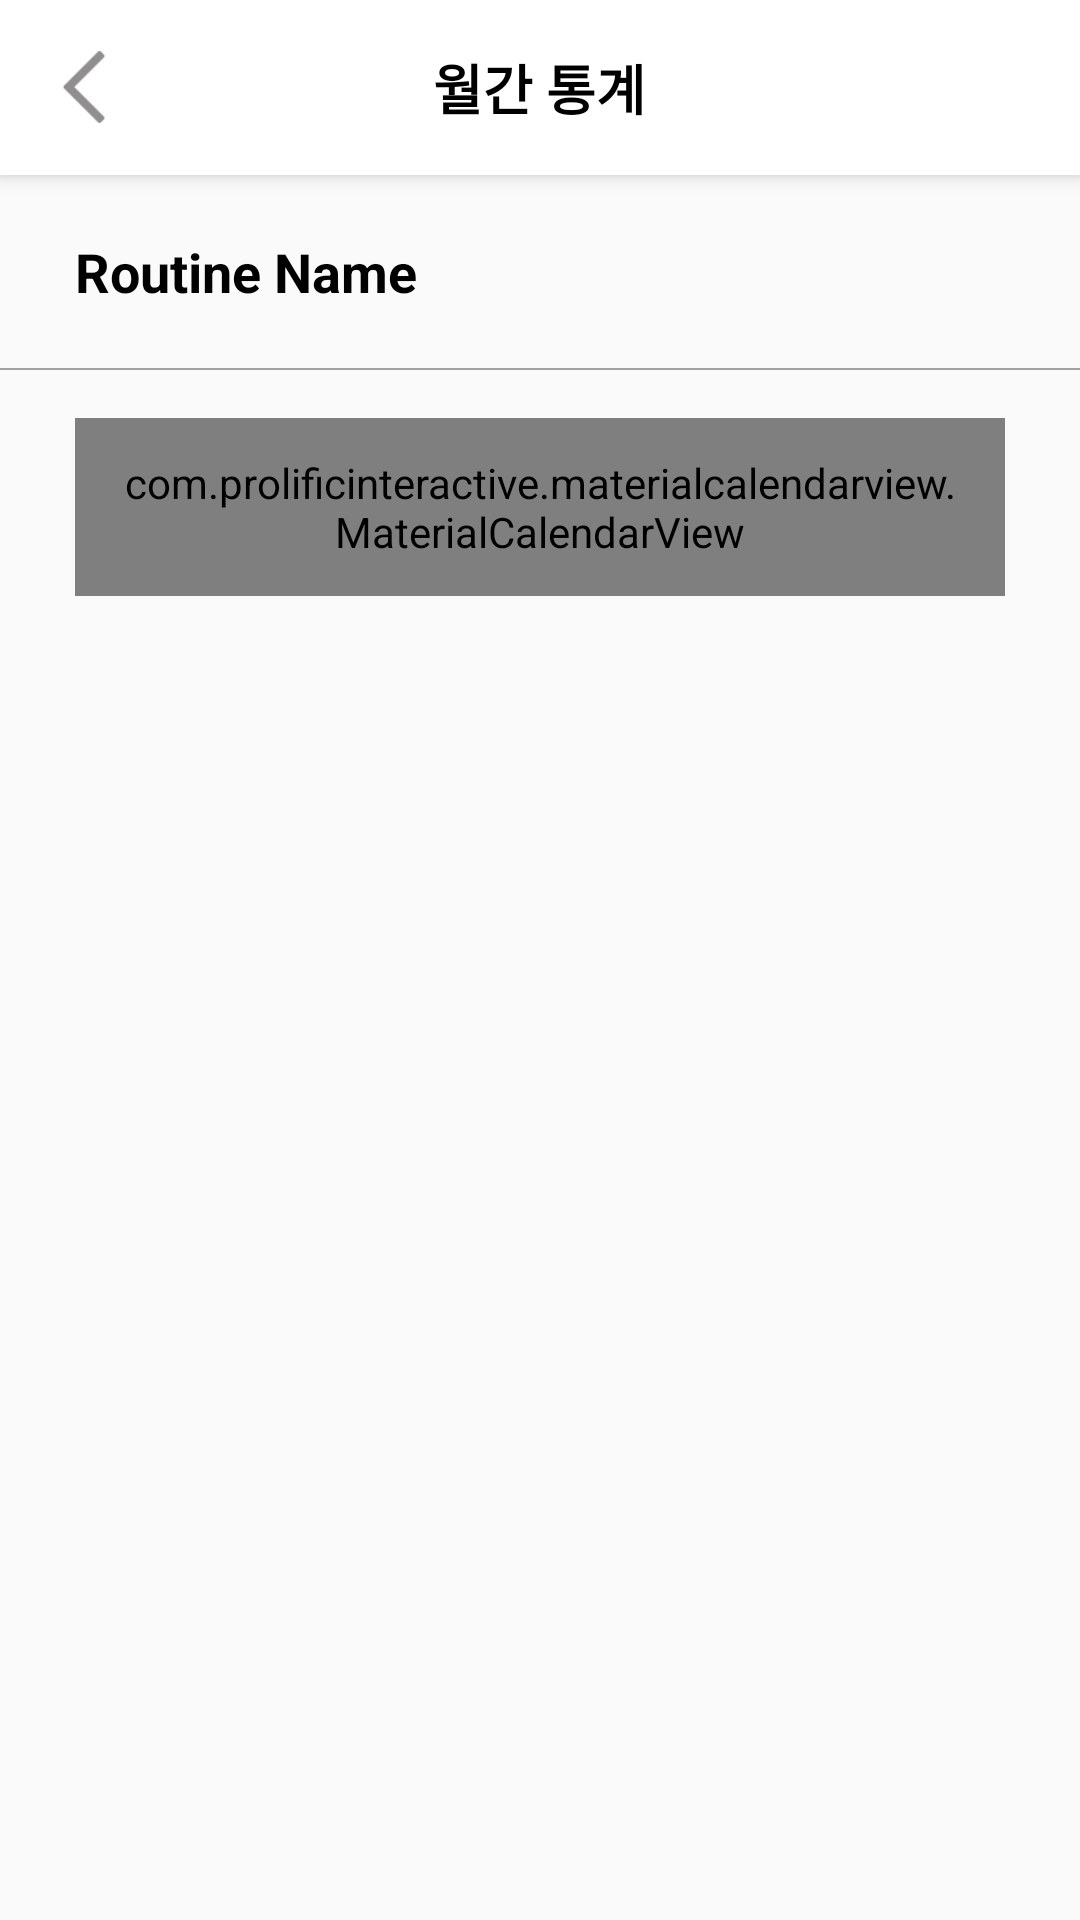

Named icons in this screenshot (1080×1920) and their centers, point (x, y):
back arrow: point (84, 87)
